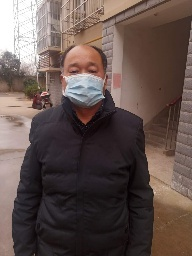correctlyWear: (59, 57, 108, 109)
